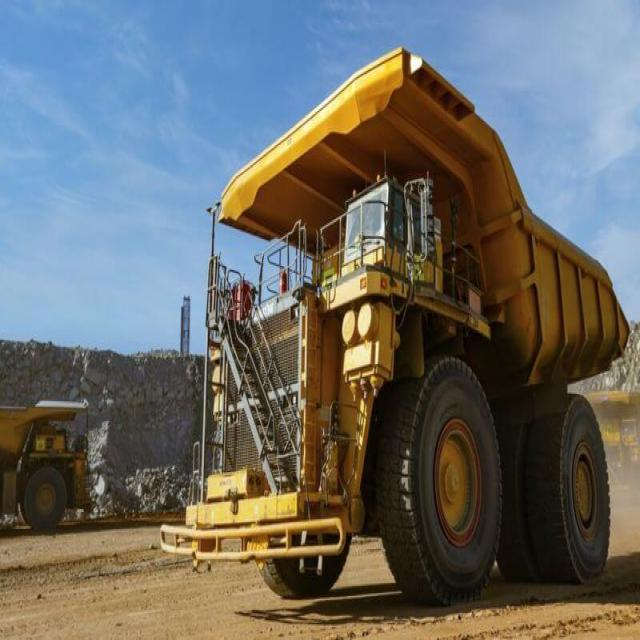dump_truck: (207, 33, 629, 607), (3, 372, 103, 540)
